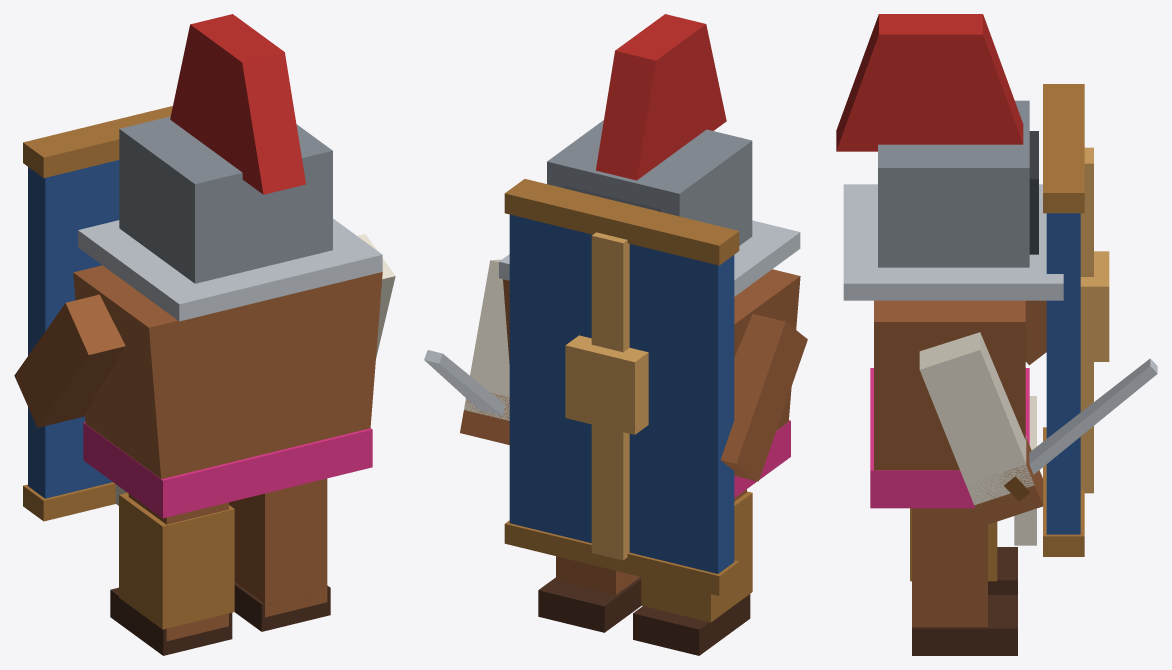
Rendered from EN_Murmillo.fbx.
The picture shows the model from 3 angles, left to right: view 1: azimuth 30°, elevation 25°; view 2: azimuth 150°, elevation 25°; view 3: azimuth 270°, elevation 25°; orthographic projection. The views are drawn at different scales.
Visible parts, largest first — view 1: Body, Head, Crest, Shield, Greave, Brim, Belt, LegR, ArmL, RimT, BootL, RimB (+3 smaller); view 2: Shield, Crest, Head, Spine, RimT, ArmL, Boss, RimB, Greave, ArmR, BootR, BootL (+6 smaller); view 3: Crest, Head, Body, ArmR, Brim, Shield, LegR, RimT, Belt, BootR, Spine, Gladius (+8 smaller).
Boxes of the visible parts, x1,y1,x2,y2 form: Body: [73, 265, 382, 479]; Head: [119, 116, 332, 283]; Crest: [170, 14, 305, 194]; Shield: [28, 160, 119, 498]; Greave: [119, 492, 234, 629]; Brim: [78, 218, 382, 321]; Belt: [83, 422, 372, 518]; LegR: [229, 478, 327, 617]; ArmL: [14, 294, 125, 427]; RimT: [23, 106, 172, 177]; BootL: [110, 587, 232, 655]; RimB: [23, 482, 115, 521]; Shield: [509, 214, 734, 573]; Crest: [596, 14, 726, 180]; Head: [547, 120, 752, 245]; Spine: [591, 232, 629, 560]; RimT: [504, 179, 739, 265]; ArmL: [720, 314, 807, 481]; Boss: [565, 335, 648, 434]; RimB: [504, 520, 739, 595]; Greave: [641, 491, 752, 622]; ArmR: [464, 259, 509, 420]; BootR: [538, 577, 641, 632]; BootL: [633, 594, 750, 655]; Crest: [836, 14, 1023, 151]; Head: [878, 100, 1029, 267]; Body: [874, 300, 1025, 470]; ArmR: [919, 332, 1034, 505]; Brim: [843, 184, 1063, 300]; Shield: [1046, 213, 1080, 534]; LegR: [912, 508, 987, 626]; RimT: [1043, 84, 1084, 213]; Belt: [870, 368, 1029, 508]; BootR: [912, 595, 1017, 655]; Spine: [1080, 147, 1093, 493]; Gladius: [1029, 358, 1157, 474].
Size of the model in its own units: 0.93 by 0.8483 by 1.72.
